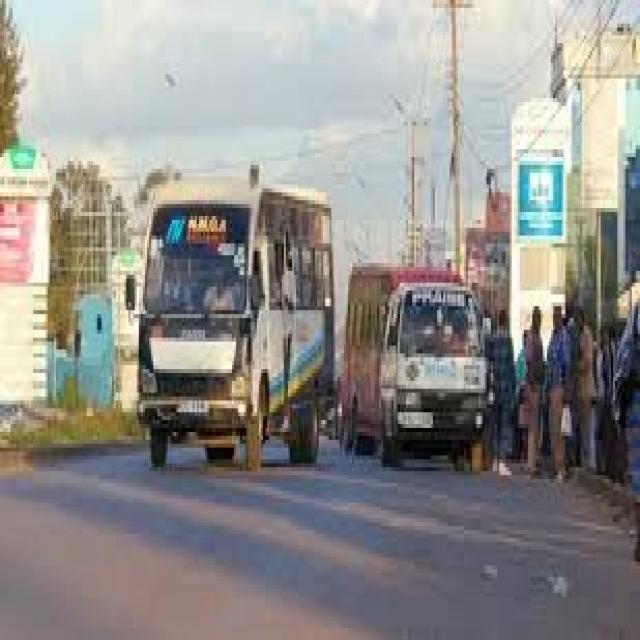bus: (133, 142, 340, 496)
matatu: (341, 240, 490, 500)
